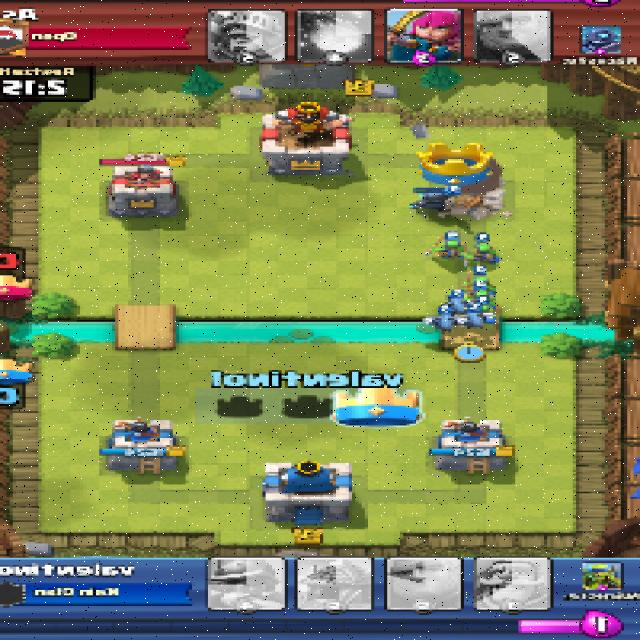Player-MiniPEKKA: (409, 190, 454, 214)
Player-Minion: (448, 292, 472, 312), (426, 315, 461, 328), (459, 313, 490, 325)
Player-SpearGoblin: (467, 242, 502, 260), (434, 240, 466, 258), (466, 272, 495, 290), (468, 290, 499, 304)
